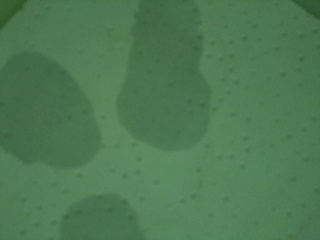Water_detected: (122, 0, 187, 120), (8, 76, 86, 157), (74, 199, 132, 240)
